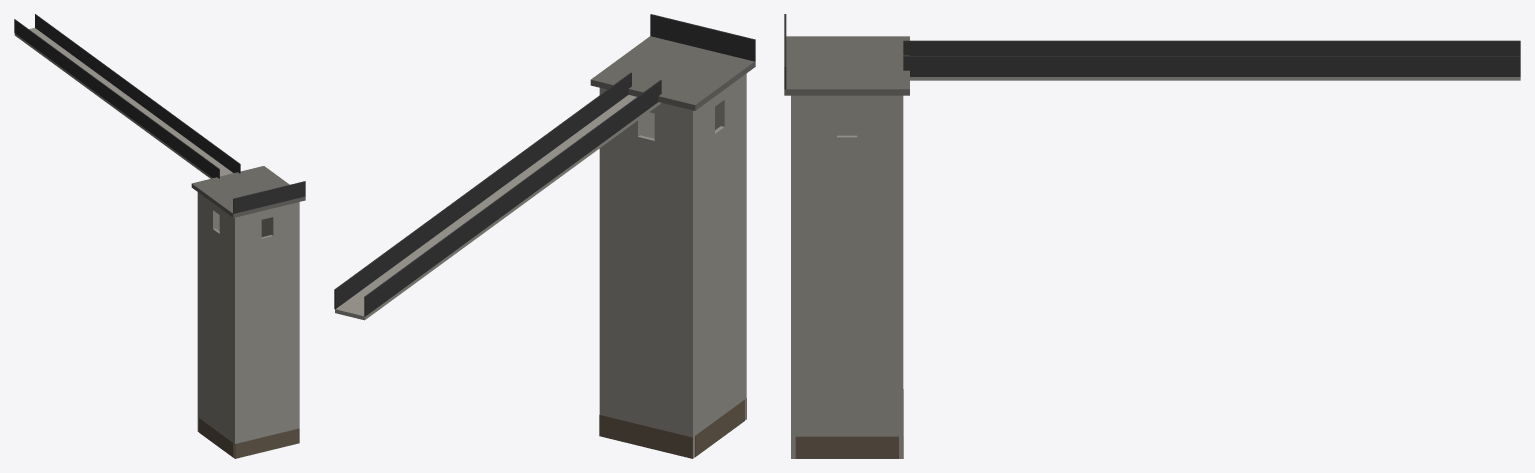
File: torre_tomada_a.glb
3 views of the same model, side by side, from view 1: azimuth 30°, elevation 25°; view 2: azimuth 150°, elevation 25°; view 3: azimuth 270°, elevation 25° (orthographic). The views are drawn at different scales.
Parts seen in each view (by area): view 1: torre_tomada_a; view 2: torre_tomada_a; view 3: torre_tomada_a.
Boxes of the visible parts, x1,y1,x2,y2 form: torre_tomada_a: [14, 14, 305, 458]; torre_tomada_a: [334, 14, 755, 458]; torre_tomada_a: [784, 14, 1520, 458].
Bounding box in the file's own units: 5.6 × 19.4 × 32.8.
